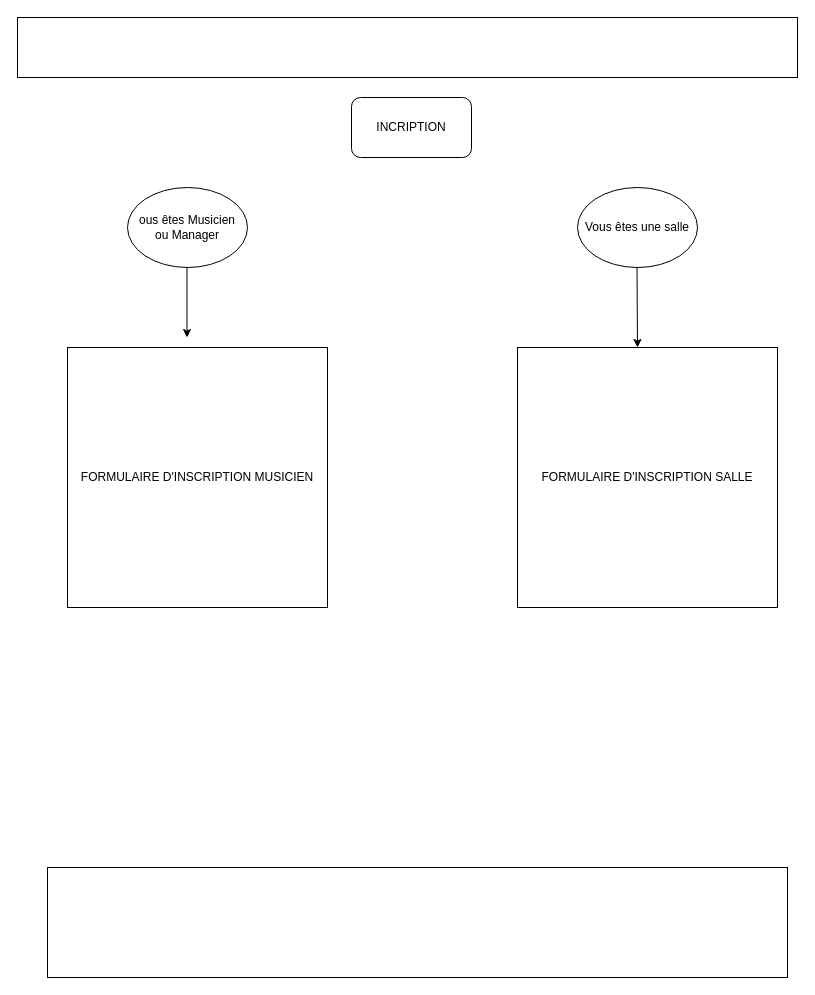
Some shapes in this 815 by 995 pixel diagram are drawn without their labels. Here are the shapes that lost their labels. From the top down, the centre of each, then its label:
At pixel 407 47: "NAVBAR".
At pixel 417 922: "FOOTER".
